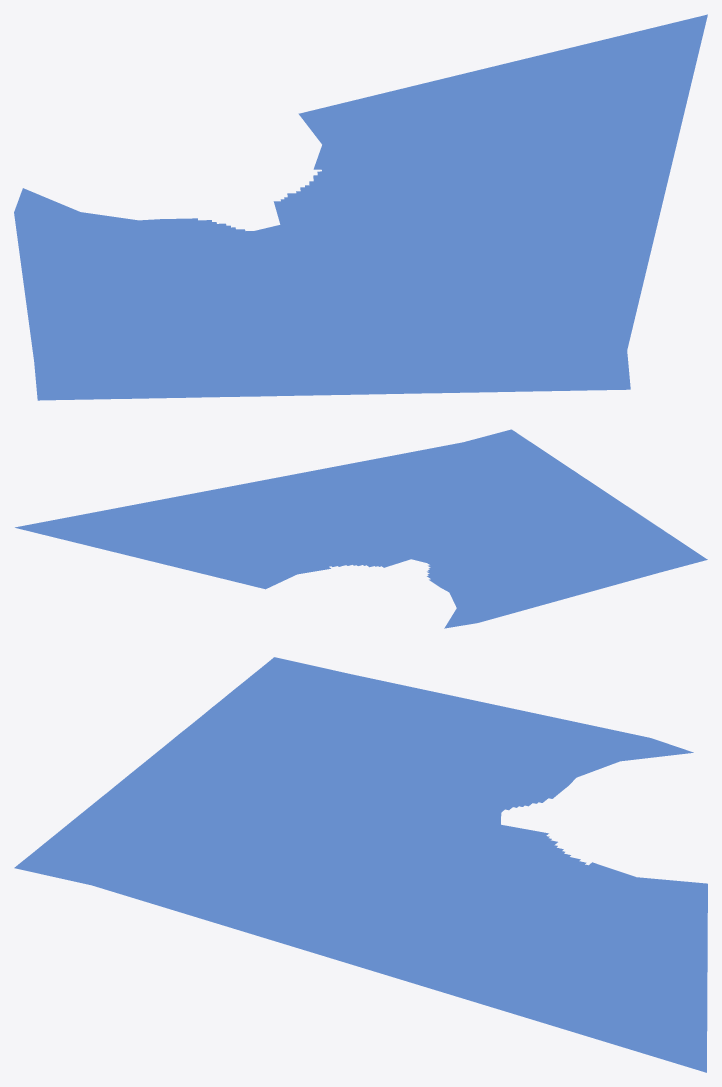
File: Lake.fbx
3 renders of one model, top to bottom at view 1: azimuth 30°, elevation 25°; view 2: azimuth 150°, elevation 25°; view 3: azimuth 270°, elevation 25°, orthographic. The views are drawn at different scales.
Parts seen in each view (by area): view 1: 平面.076; view 2: 平面.076; view 3: 平面.076.
Part boxes in pixels (x1,y1,x2,y2): 平面.076: [14, 14, 707, 400]; 平面.076: [15, 429, 707, 628]; 平面.076: [14, 657, 707, 1072].
Size of the model in its own units: 44469 by 31362 by 0.
